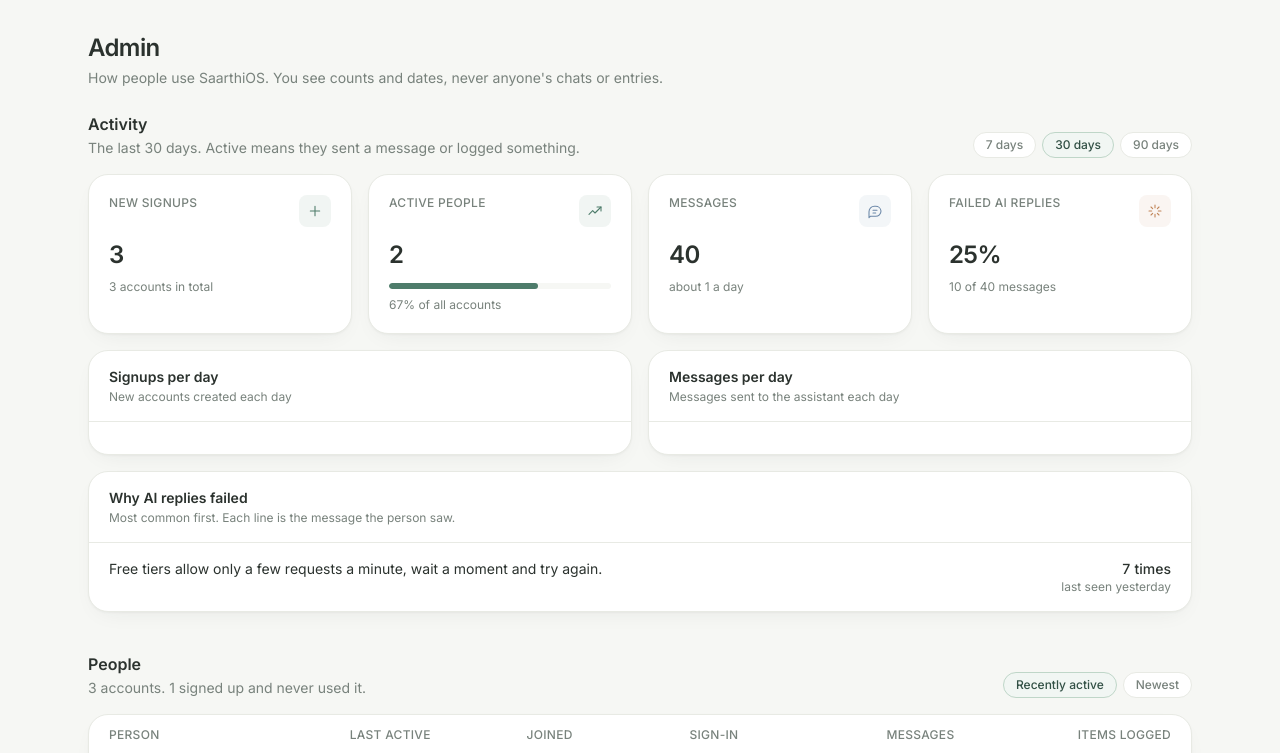
Test: keeps the last numbers on screen when a refresh fails
The width and height of the screenshot is (1280, 753).
Click the button "Newest" at (1157, 685), box [1123,672,1192,698]
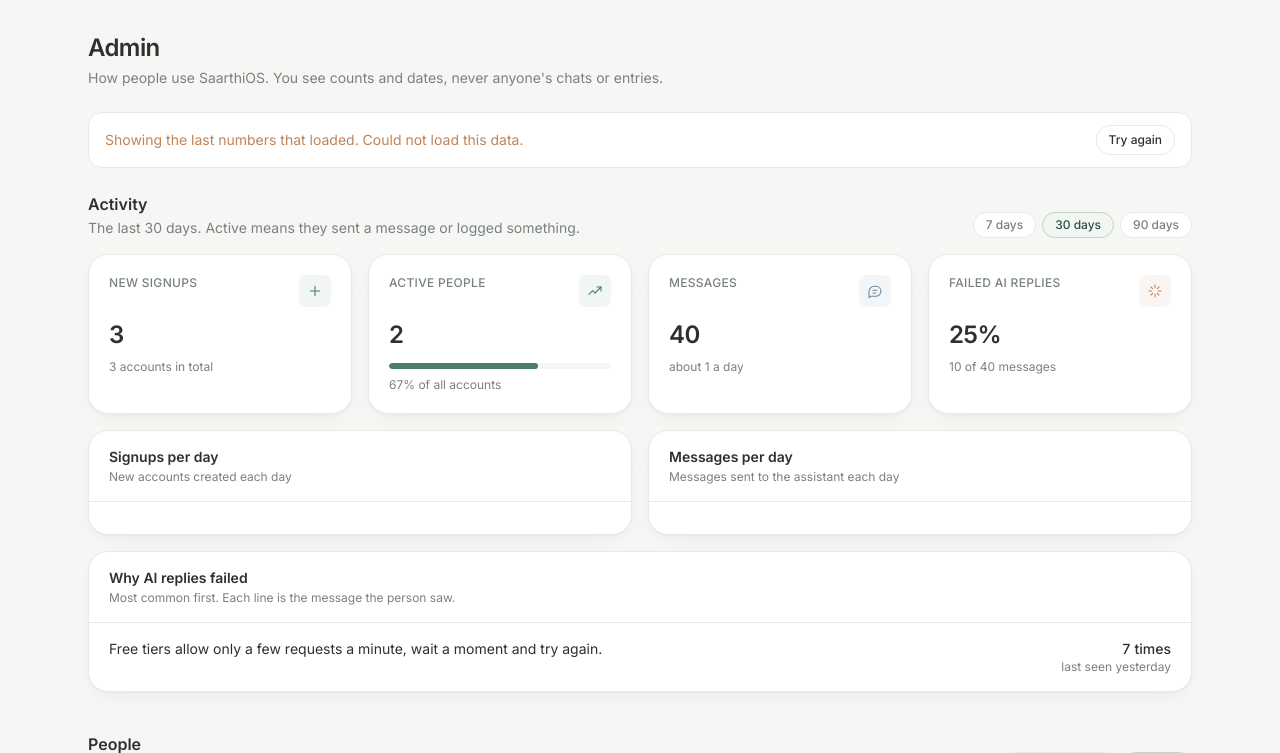
Expected: the message shows "Showing the last numbers that loaded.", [105,131,363,148]
Click the button "Try again" at (1135, 140), box [1096,125,1175,155]
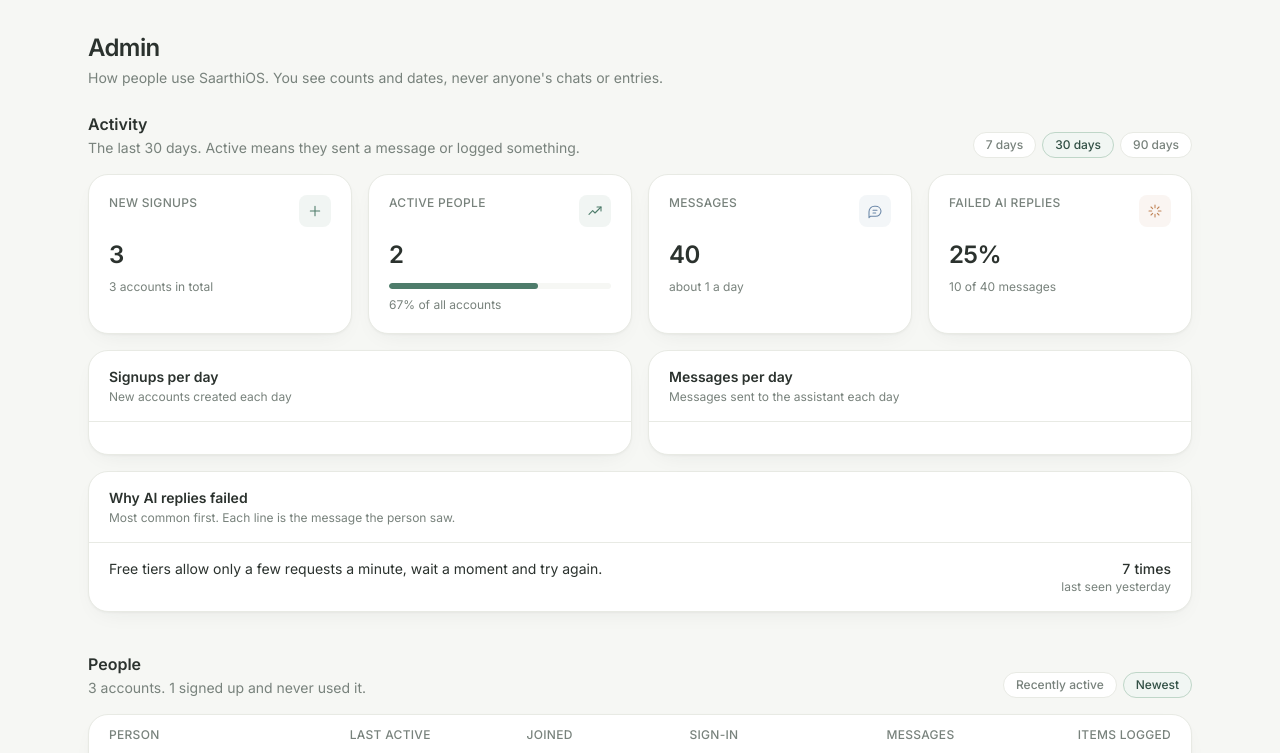
Expected: the message "Showing the last numbers that loaded. Could not load this data. Try again" is gone
